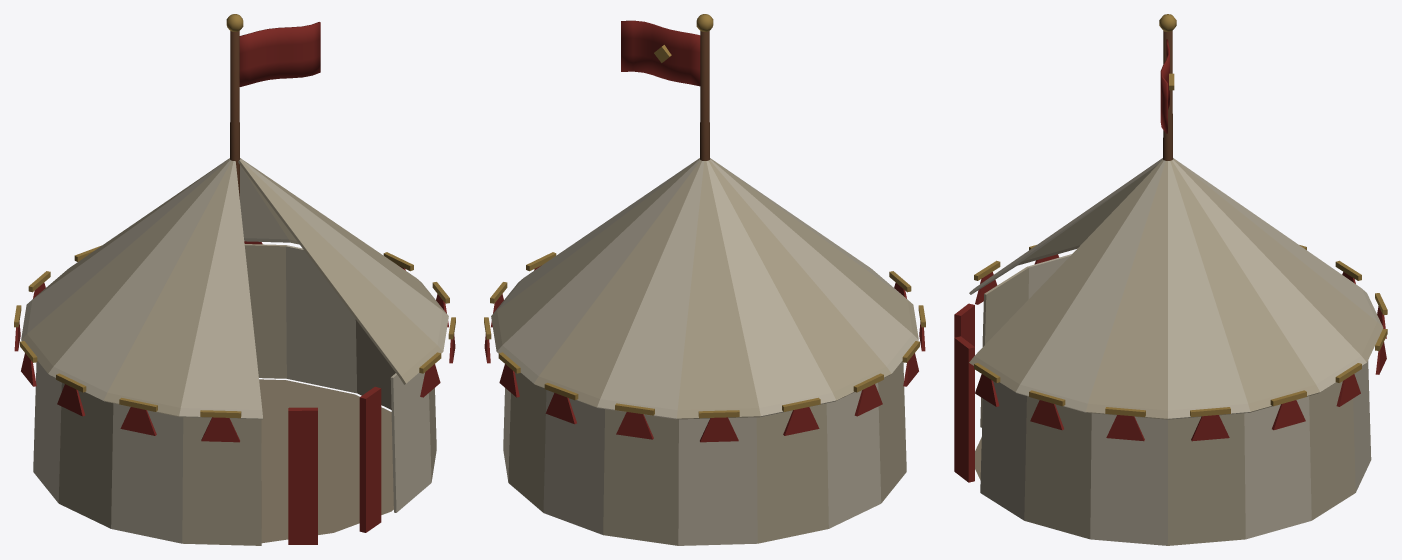
The model's file is shatro.glb.
3 renders of one model, left to right at view 1: azimuth 30°, elevation 25°; view 2: azimuth 150°, elevation 25°; view 3: azimuth 270°, elevation 25°, orthographic.
Parts seen in each view (by area): view 1: shatro; view 2: shatro; view 3: shatro.
Part boxes in pixels (x1,y1,x2,y2): shatro: (14,14,455,545); shatro: (484,14,925,545); shatro: (954,14,1387,545).
Bounding box in the file's own units: 4.75 × 5.32 × 4.69.
